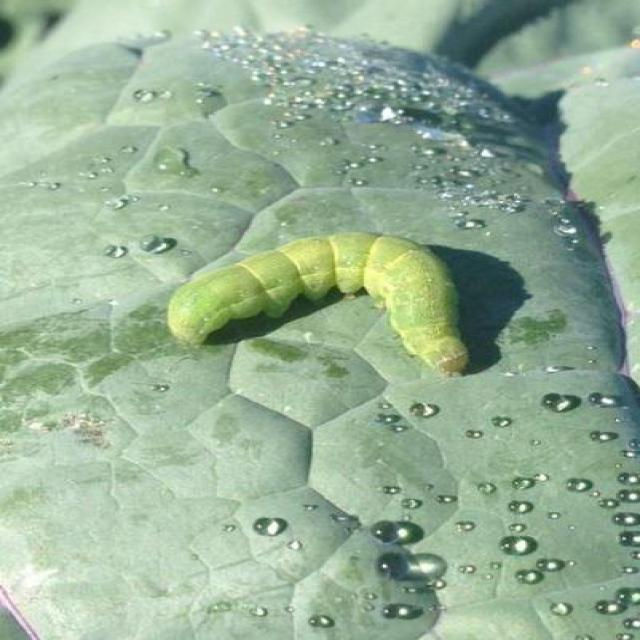BeetArmyWorm-Larva-: (152, 221, 483, 380)
